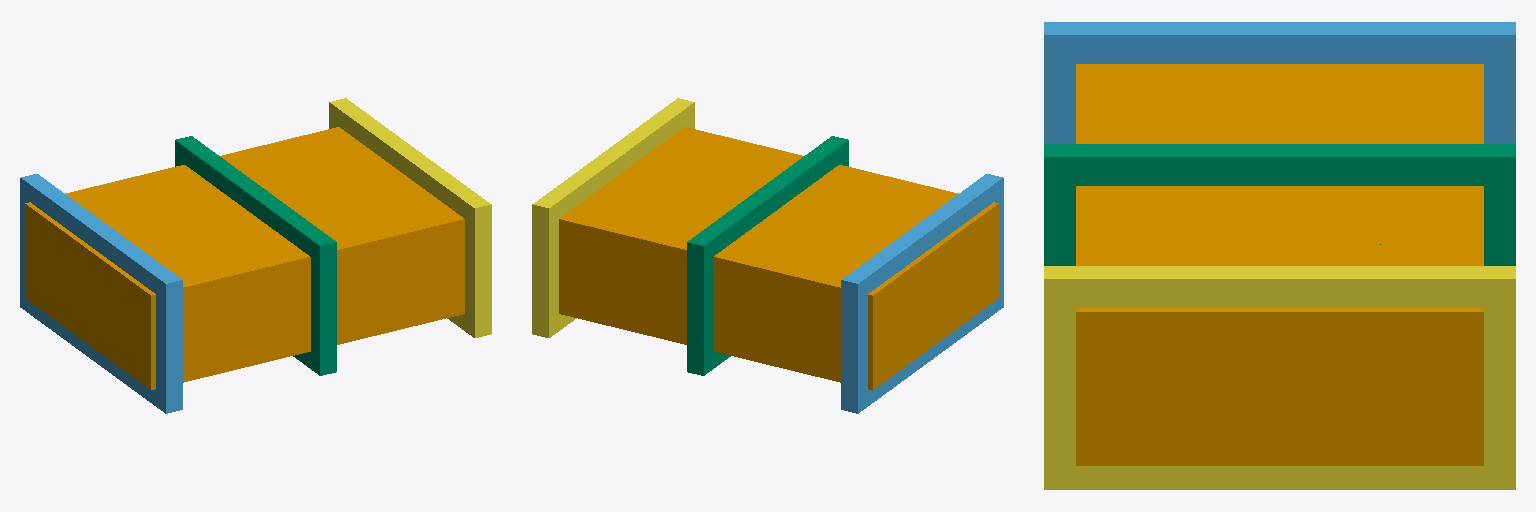
URDF robot description (debris020):
<?xml version="1.0" ?>
<robot name="debris020">

<link name="debris020">
<visual> <origin xyz="0 0 0" rpy="0 0 0" />
<geometry> <box size="1.00 0.65 0.27"/> </geometry>
</visual>
<collision> <origin xyz="0 0 0" rpy="0 0 0" />
<geometry> <box size="1.00 0.65 0.27"/> </geometry>
</collision>
<inertial> <origin xyz="0 0 0" rpy="0 0 0" />
<mass value="10.0" />
<inertia ixx="0.6848" ixy="0" ixz="0" iyy="0.6848" iyz="0" izz="0.6848" />
</inertial>
</link>
<gazebo reference="debris020"> <material>Gazebo/Granite</material> </gazebo>

<link name="debris0200">
<visual> <origin xyz="-0.46 0 0" rpy="0 0 0" />
<geometry> <box size="0.05 0.75 0.37"/> </geometry>
</visual>
<collision> <origin xyz="-0.46 0 0" rpy="0 0 0" />
<geometry> <box size="0.05 0.75 0.37"/> </geometry>
</collision>
<inertial> <origin xyz="0 0 0" rpy="0 0 0" />
<mass value="0.1" />
<inertia ixx="0.0100" ixy="0" ixz="0" iyy="0.0100" iyz="0" izz="0.0100" />
</inertial>
</link>
<gazebo reference="debris0200"> <material>Gazebo/Granite</material> </gazebo>

<joint name="debris0200joint" type="fixed">
<parent link="debris020"/>
<child link="debris0200"/>
<origin xyz="0 0 0" rpy="0 0 0" />
</joint>

<link name="debris0201">
<visual> <origin xyz="0.00 0 0" rpy="0 0 0" />
<geometry> <box size="0.05 0.75 0.37"/> </geometry>
</visual>
<collision> <origin xyz="0.00 0 0" rpy="0 0 0" />
<geometry> <box size="0.05 0.75 0.37"/> </geometry>
</collision>
<inertial> <origin xyz="0 0 0" rpy="0 0 0" />
<mass value="0.1" />
<inertia ixx="0.0100" ixy="0" ixz="0" iyy="0.0100" iyz="0" izz="0.0100" />
</inertial>
</link>
<gazebo reference="debris0201"> <material>Gazebo/Granite</material> </gazebo>

<joint name="debris0201joint" type="fixed">
<parent link="debris020"/>
<child link="debris0201"/>
<origin xyz="0 0 0" rpy="0 0 0" />
</joint>

<link name="debris0202">
<visual> <origin xyz="0.46 0 0" rpy="0 0 0" />
<geometry> <box size="0.05 0.75 0.37"/> </geometry>
</visual>
<collision> <origin xyz="0.46 0 0" rpy="0 0 0" />
<geometry> <box size="0.05 0.75 0.37"/> </geometry>
</collision>
<inertial> <origin xyz="0 0 0" rpy="0 0 0" />
<mass value="0.1" />
<inertia ixx="0.0100" ixy="0" ixz="0" iyy="0.0100" iyz="0" izz="0.0100" />
</inertial>
</link>
<gazebo reference="debris0202"> <material>Gazebo/Granite</material> </gazebo>

<joint name="debris0202joint" type="fixed">
<parent link="debris020"/>
<child link="debris0202"/>
<origin xyz="0 0 0" rpy="0 0 0" />
</joint>

</robot>

--- Render facts (derived) ---
The picture shows the robot from 3 angles, left to right: view 1: azimuth 30°, elevation 25°; view 2: azimuth 150°, elevation 25°; view 3: azimuth 270°, elevation 25°; orthographic projection.
Robot: debris020 — 4 links, 3 joints (3 fixed); root link debris020; default pose: all joints at 0.
Visible links, largest first — view 1: debris020, debris0200, debris0202, debris0201; view 2: debris020, debris0200, debris0202, debris0201; view 3: debris020, debris0202, debris0201, debris0200.
Link boxes in pixels (x1,y1,x2,y2): debris020: (25,127,464,389); debris0200: (20,174,182,413); debris0202: (329,98,491,337); debris0201: (175,136,336,375); debris020: (559,127,998,389); debris0200: (841,174,1003,413); debris0202: (532,98,694,337); debris0201: (687,136,848,375); debris020: (1076,64,1483,465); debris0202: (1044,266,1515,489); debris0201: (1044,144,1515,265); debris0200: (1044,22,1515,143).
Size in the robot's own frame: 1 by 0.75 by 0.37 metres.
Geometry: primitives only (box / cylinder / sphere), no mesh files.
